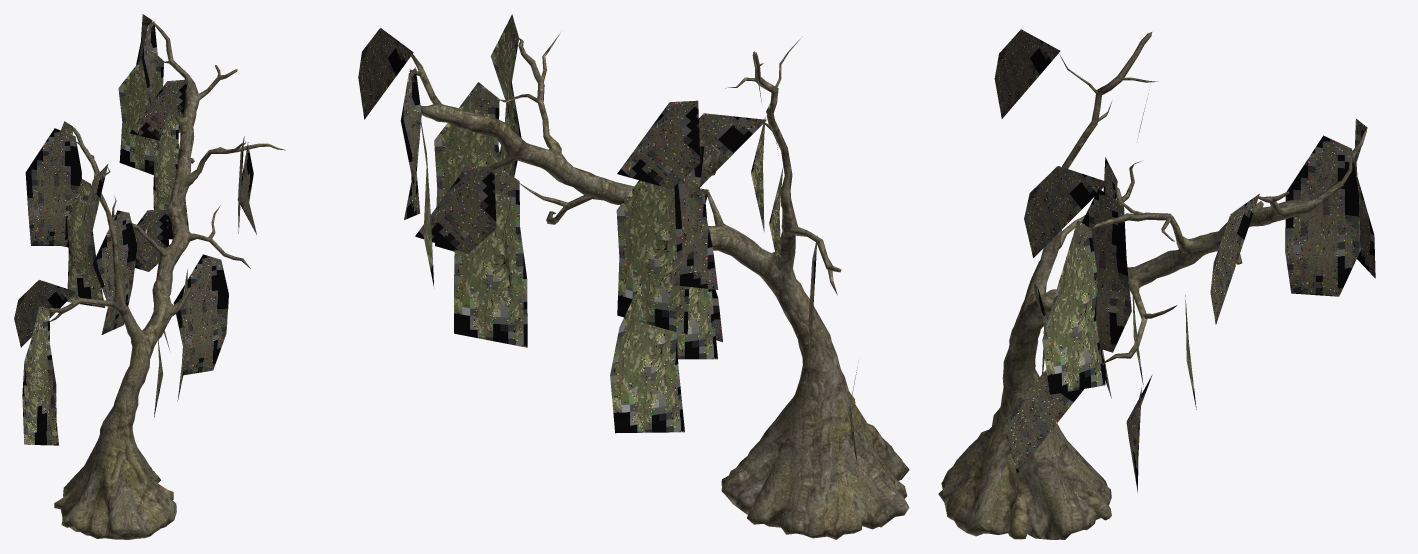
The model's file is swamp-tree-b-close.glb.
3 renders of one model, left to right at view 1: azimuth 30°, elevation 25°; view 2: azimuth 150°, elevation 25°; view 3: azimuth 270°, elevation 25°, orthographic. The views are drawn at different scales.
Visible parts, largest first — view 1: swamp_tree_b_LOD0; view 2: swamp_tree_b_LOD0; view 3: swamp_tree_b_LOD0.
Boxes of the visible parts, x1,y1,x2,y2 form: swamp_tree_b_LOD0: (14, 14, 285, 539); swamp_tree_b_LOD0: (358, 14, 909, 539); swamp_tree_b_LOD0: (938, 29, 1375, 539).
Size of the model in its own units: 8.63 by 9.47 by 7.95.
Materials: 1 (1 with a texture image).
